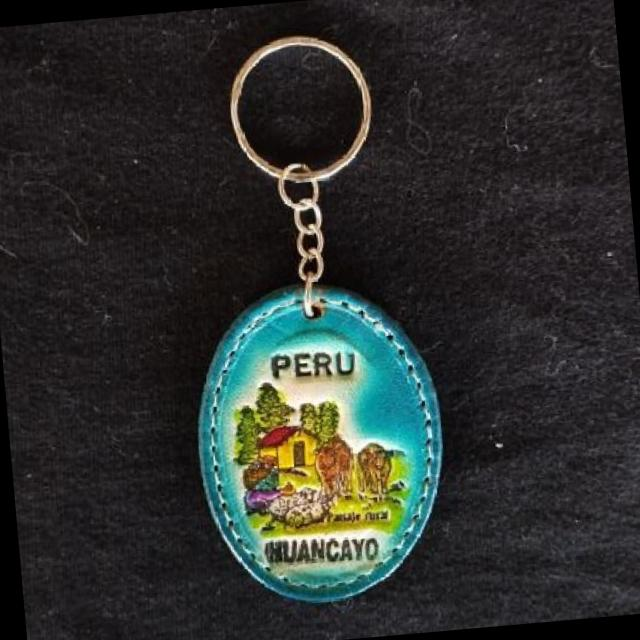Llavero: (183, 272, 456, 612)
